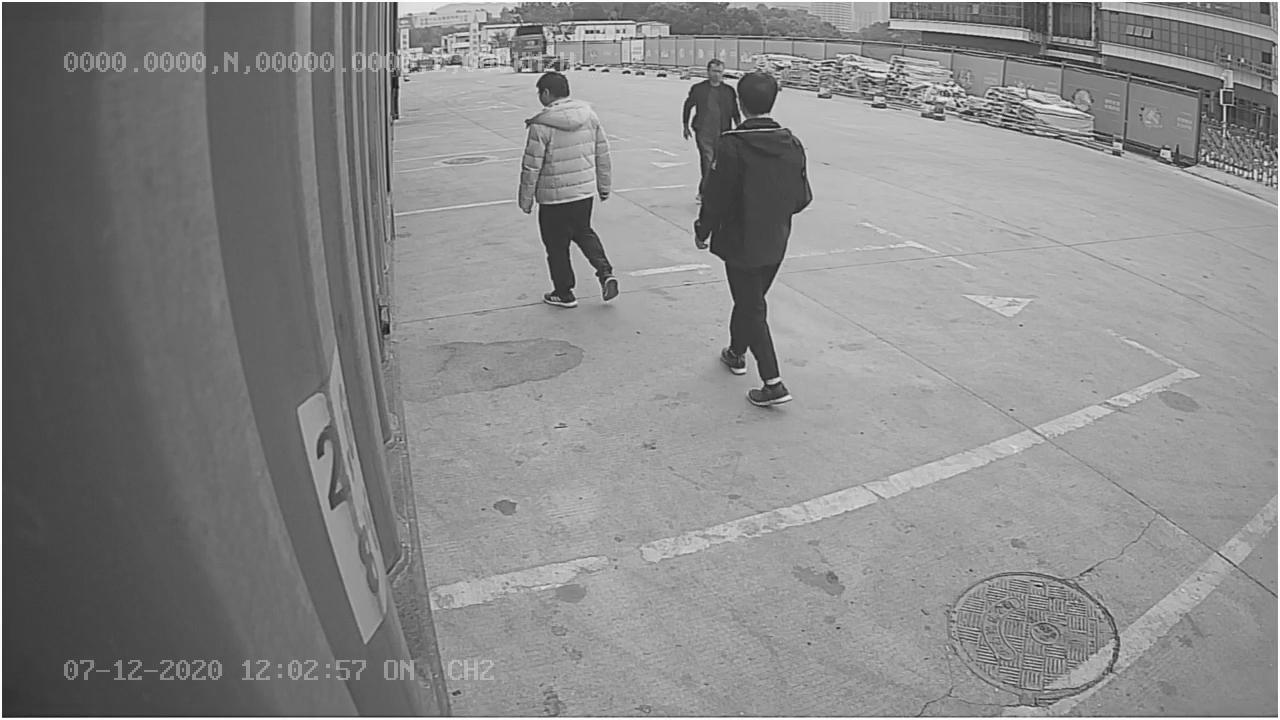person: (516, 73, 621, 311)
